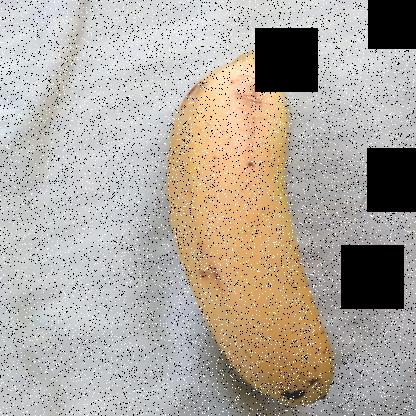freshripe: (150, 60, 350, 401)
